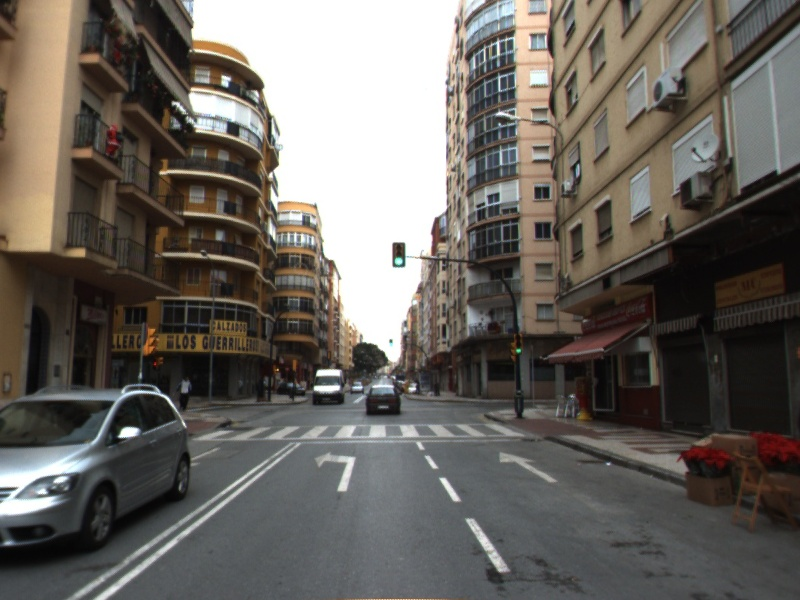LEFT: (313, 450, 358, 493)
STRAIGHT: (498, 450, 560, 484)
